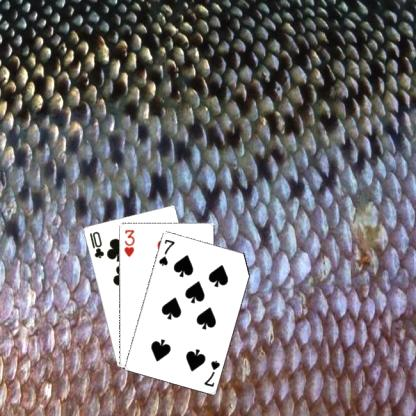10C: (86, 228, 105, 260)
3H: (122, 227, 136, 258)
7S: (156, 236, 176, 267), (201, 357, 221, 388)
